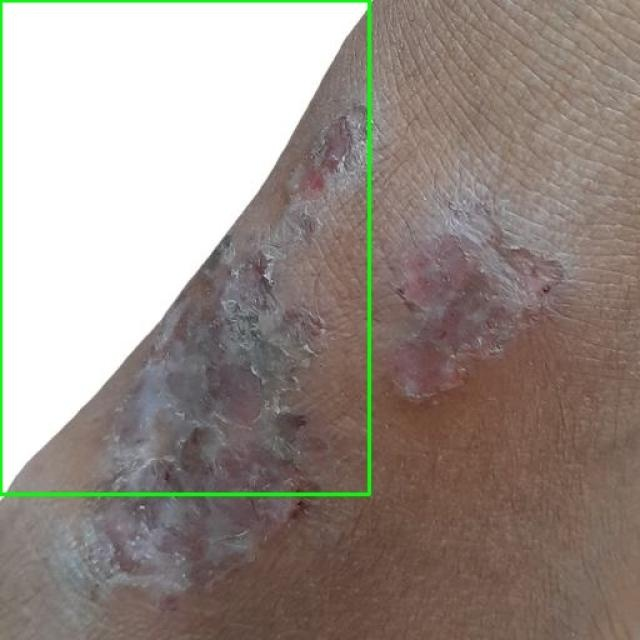Contact Dermatitis: (0, 0, 369, 494)
